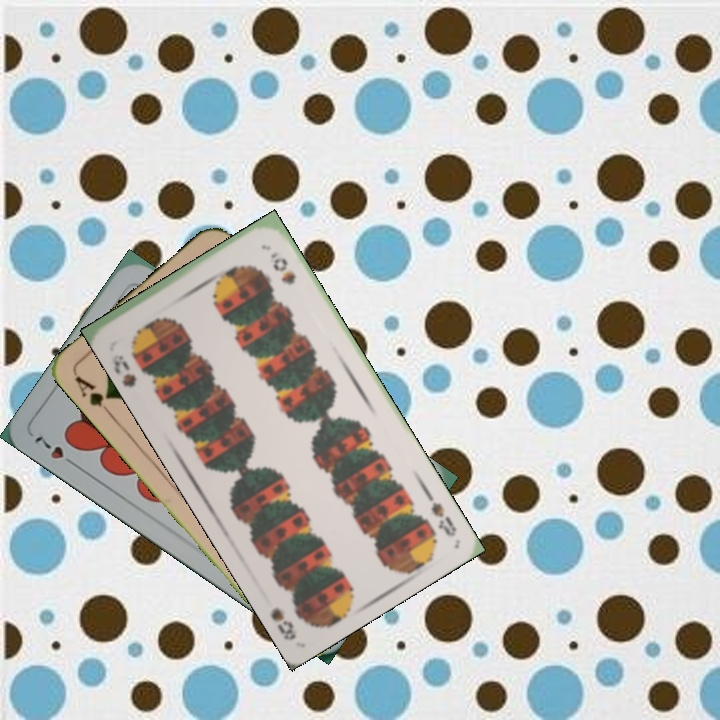GA: (70, 371, 115, 420)
H7: (30, 431, 81, 471)
S8: (420, 486, 459, 540), (108, 350, 140, 391)
